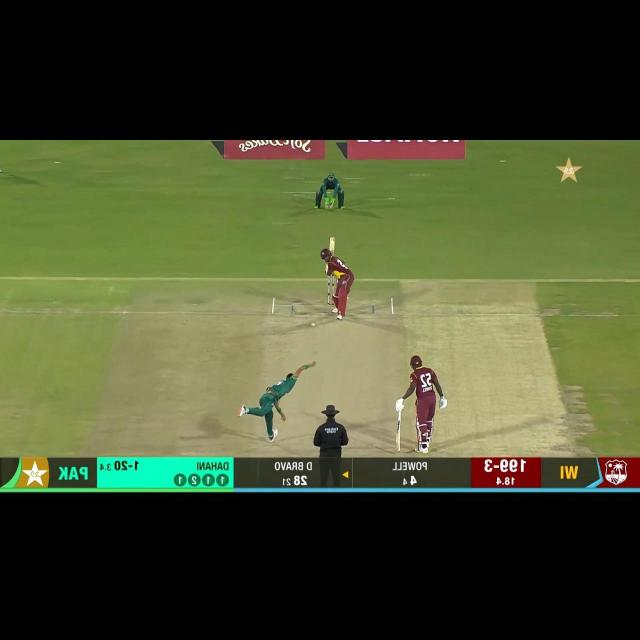bat: (390, 420, 406, 450), (329, 235, 336, 253)
toe: (393, 437, 402, 451), (329, 236, 338, 249)
